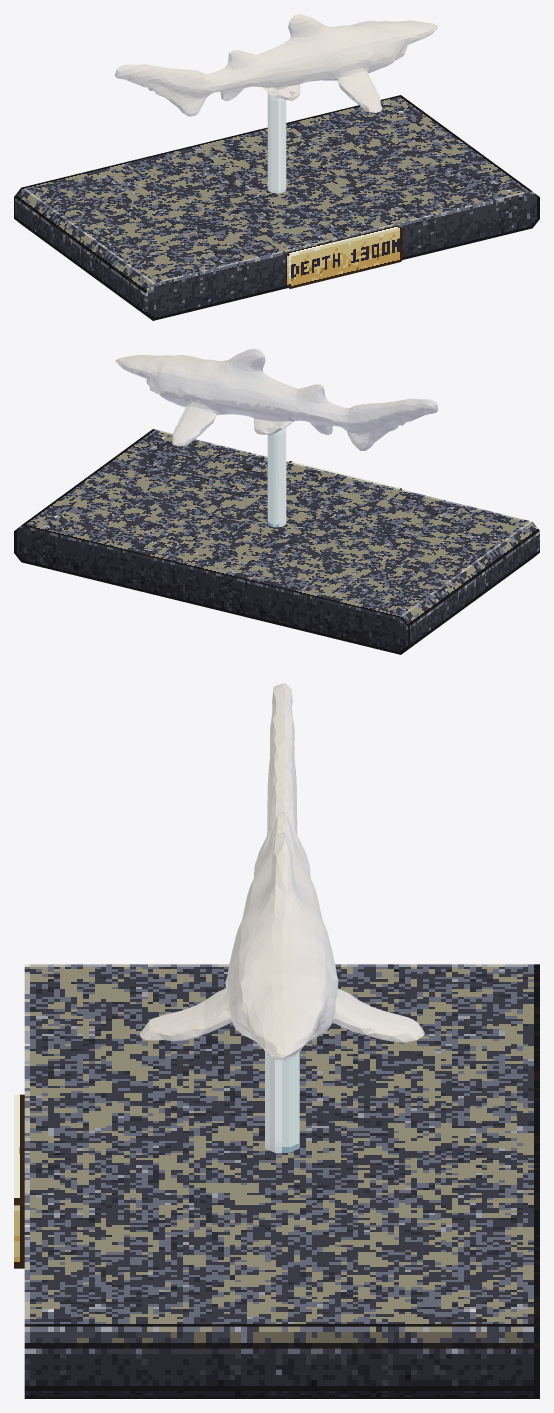
Rendered from goblin.glb.
3 renders of one model, top to bottom at view 1: azimuth 30°, elevation 25°; view 2: azimuth 150°, elevation 25°; view 3: azimuth 270°, elevation 25°, orthographic. The views are drawn at different scales.
Parts seen in each view (by area): view 1: base, model_shark, plate, rod; view 2: base, model_shark, rod; view 3: base, model_shark, rod, plate.
Part boxes in pixels (x1,y1,x2,y2): base: [14, 95, 539, 320]; model_shark: [114, 14, 437, 116]; plate: [285, 225, 402, 288]; rod: [267, 92, 286, 193]; base: [14, 429, 539, 654]; model_shark: [115, 349, 438, 450]; rod: [267, 427, 286, 527]; base: [24, 964, 539, 1398]; model_shark: [139, 683, 424, 1060]; rod: [265, 1052, 299, 1152]; plate: [14, 1094, 24, 1268].
Size of the model in its own units: 38 by 19.01 by 22.45.
2 materials, 2 textured.
